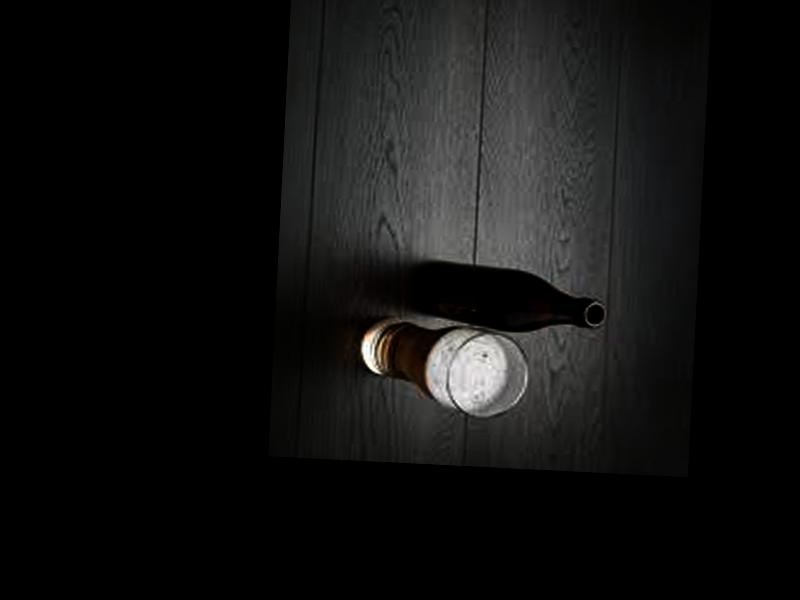Beer: (405, 258, 610, 338)
